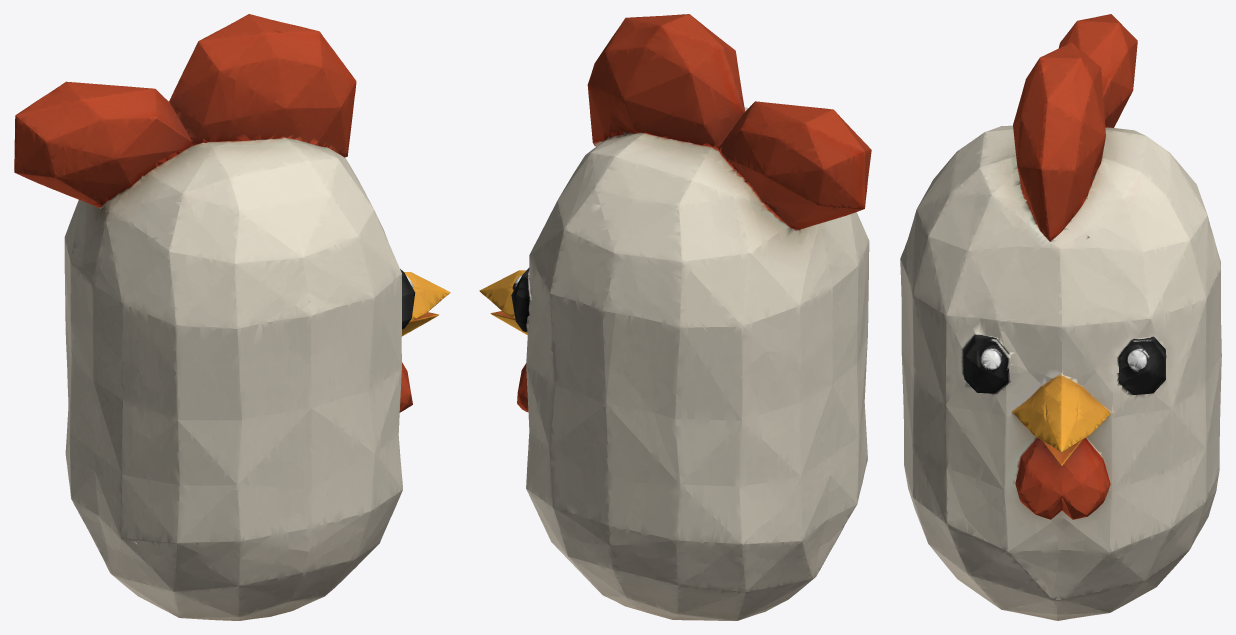
The model's file is chicken.fbx.
3 views of the same model, side by side, from view 1: azimuth 30°, elevation 25°; view 2: azimuth 150°, elevation 25°; view 3: azimuth 270°, elevation 25° (orthographic). The views are drawn at different scales.
Visible parts, largest first — view 1: tripo_node_e0fb77b0; view 2: tripo_node_e0fb77b0; view 3: tripo_node_e0fb77b0.
Boxes of the visible parts, left/top/right/bottom form: tripo_node_e0fb77b0: left=14, top=14, right=450, bottom=620; tripo_node_e0fb77b0: left=479, top=14, right=871, bottom=620; tripo_node_e0fb77b0: left=900, top=14, right=1221, bottom=620.
Bounding box in the file's own units: 73.83 × 97.99 × 52.38.
